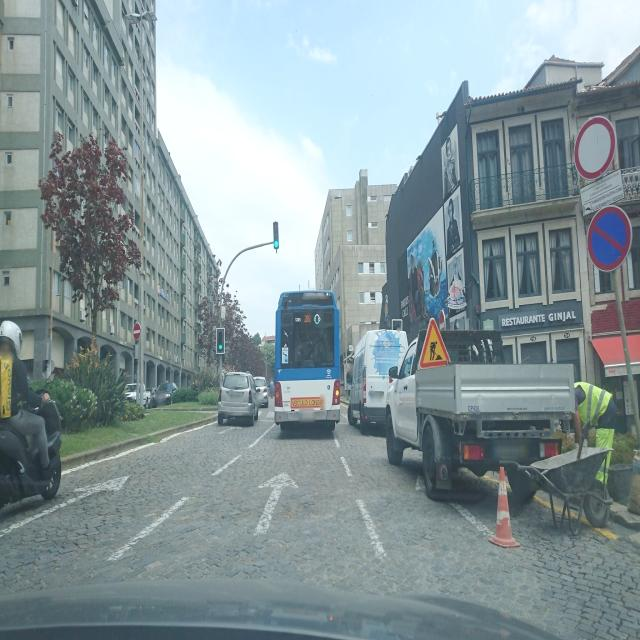bike: (0, 371, 61, 524)
car: (274, 287, 342, 433), (346, 328, 408, 430), (218, 370, 258, 424), (152, 381, 178, 409), (124, 382, 146, 406), (253, 376, 269, 408)
